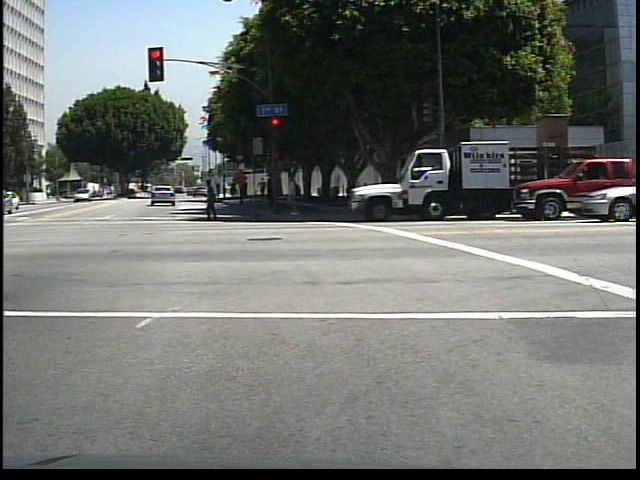person: (281, 169, 307, 217), (200, 178, 226, 221), (264, 171, 281, 215), (256, 175, 268, 199)
